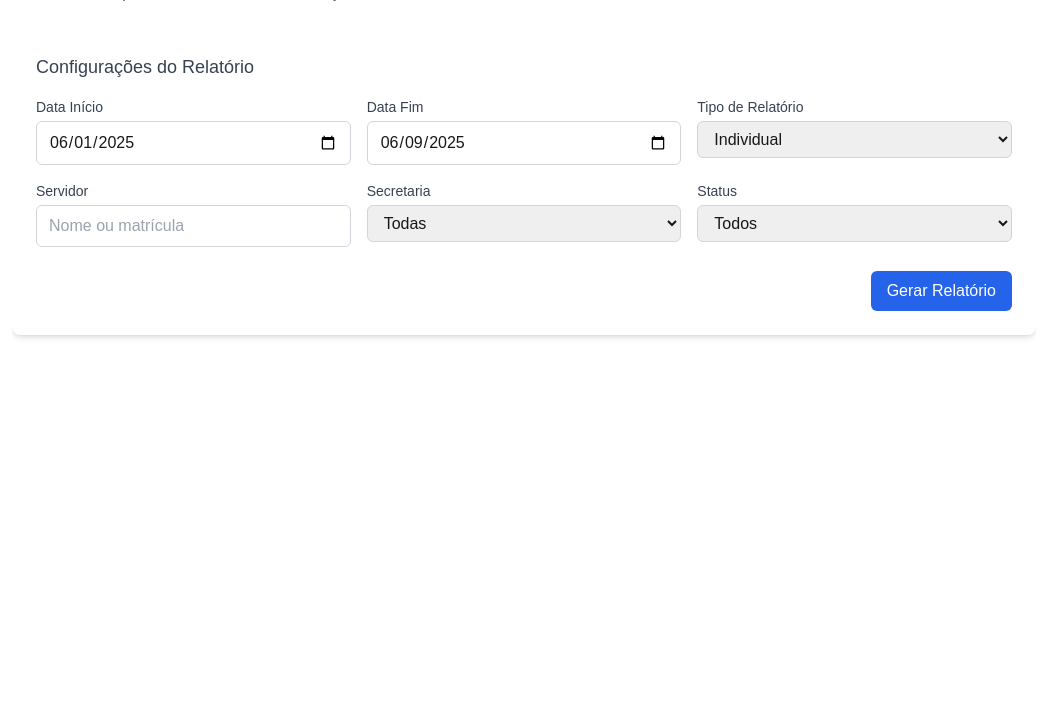
RelatoriosPage › exibe gráficos e tabelas após gerar relatório
The image size is (1048, 717).
Click the button "Gerar Relatório" at (941, 291), box [871,271,1012,311]
(page scrolled)
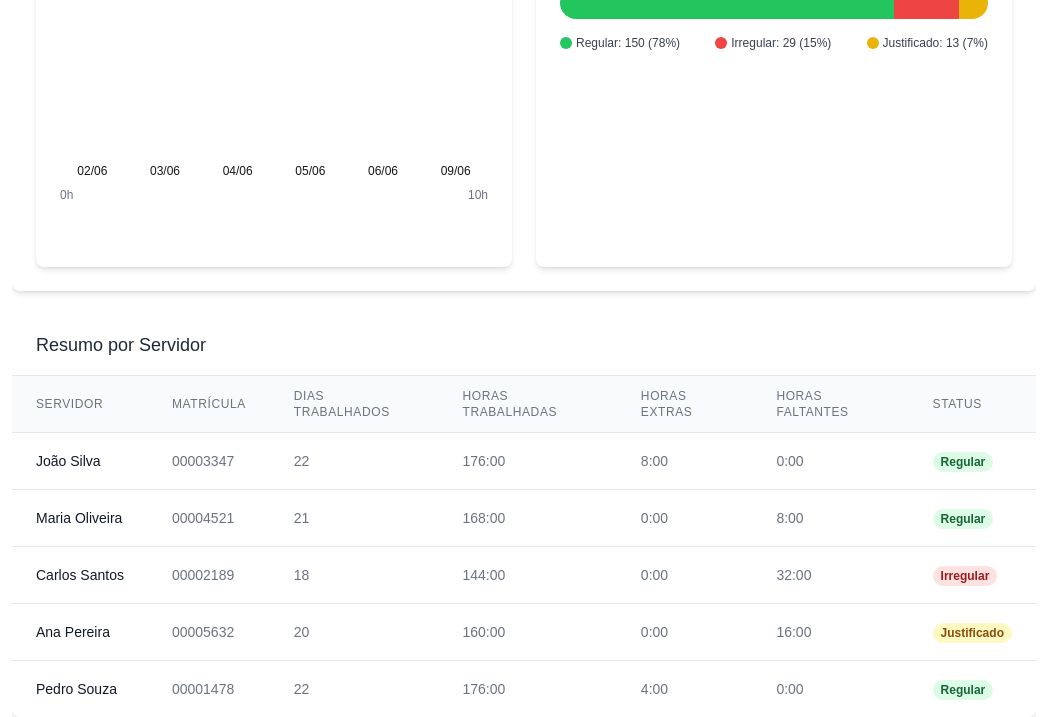
Check: the heading "Resumo por Servidor" is shown, box [36,335,206,355]
